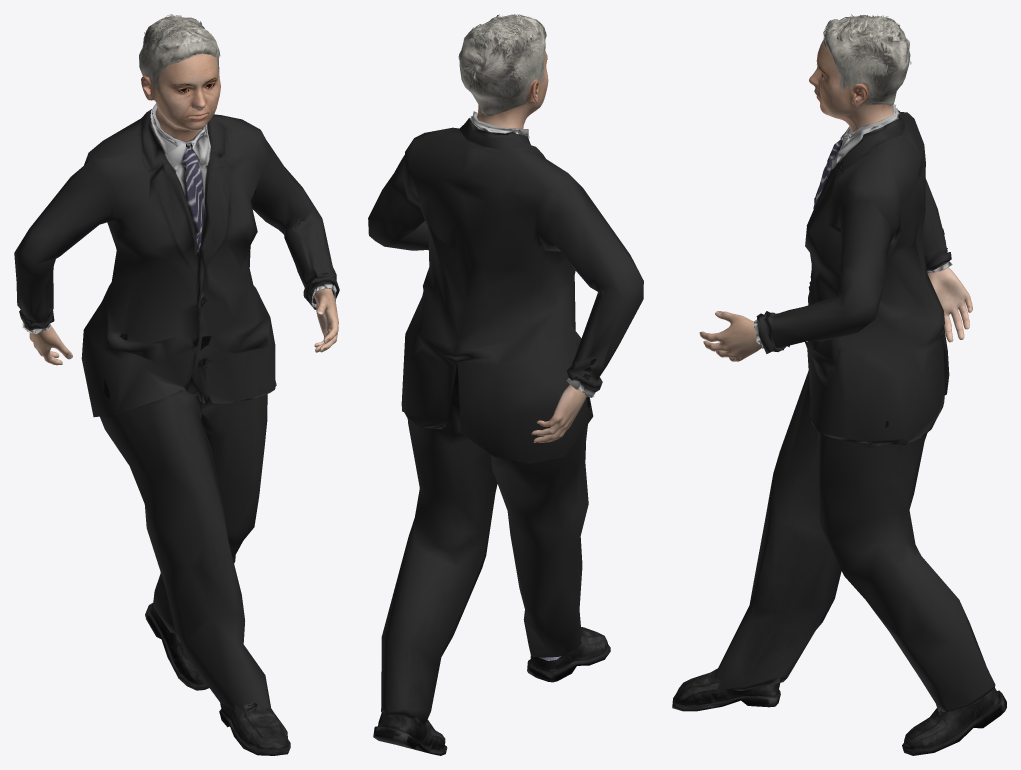
The model's file is harper.glb.
The picture shows the model from 3 angles, left to right: view 1: azimuth 30°, elevation 25°; view 2: azimuth 150°, elevation 25°; view 3: azimuth 270°, elevation 25°; orthographic projection. The views are drawn at different scales.
Size of the model in its own units: 0.7085 by 1.68 by 0.717.
Materials: 9 (9 with a texture image).
